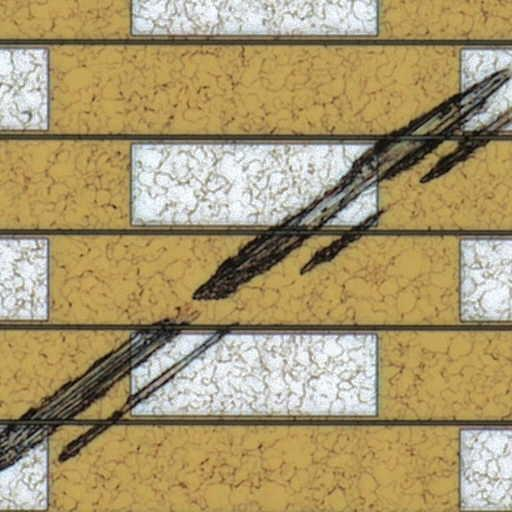SCRATCH: (1, 63, 512, 496)
